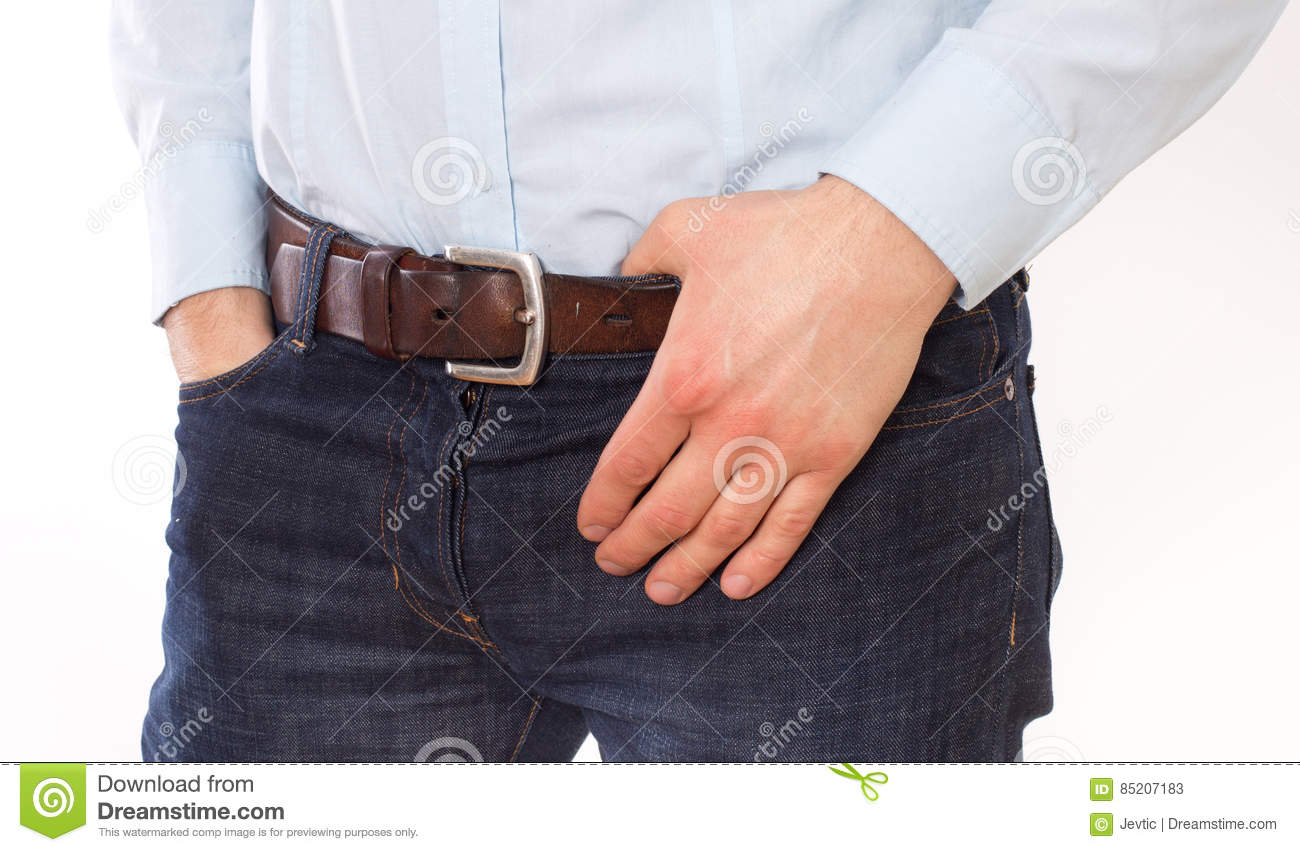C_jeans: (137, 240, 1059, 759)
F_belt: (255, 203, 670, 395)
